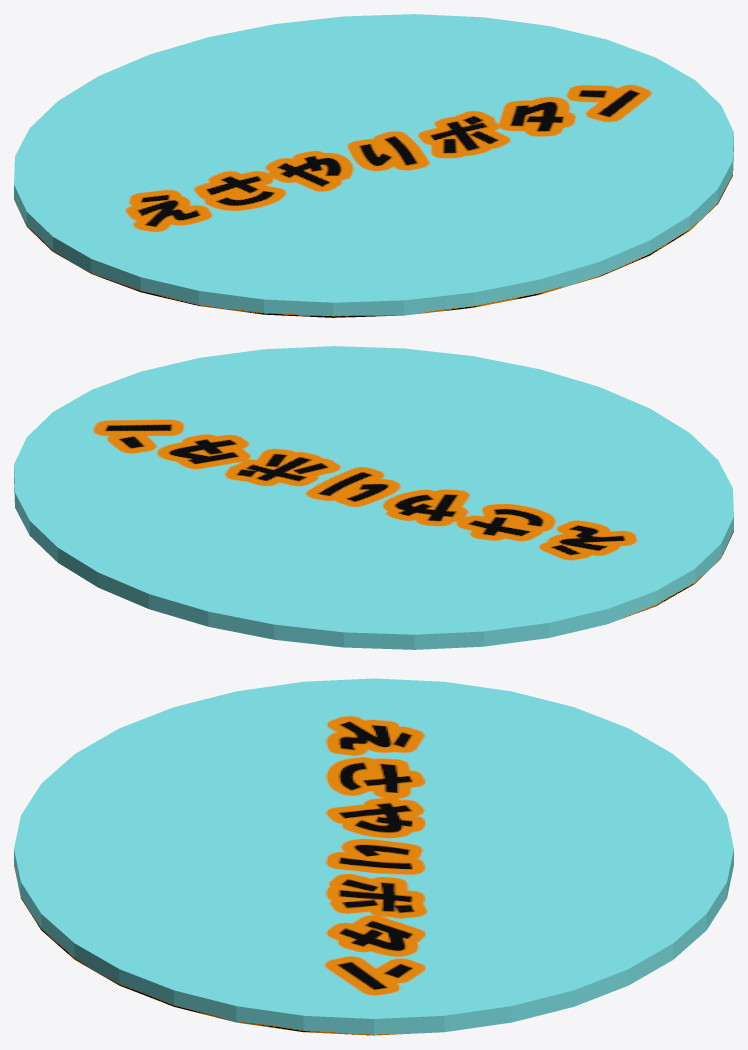
The model's file is ボタン.obj.
3 renders of one model, top to bottom at view 1: azimuth 30°, elevation 25°; view 2: azimuth 150°, elevation 25°; view 3: azimuth 270°, elevation 25°, orthographic. The views are drawn at different scales.
Parts seen in each view (by area): view 1: 円柱; view 2: 円柱; view 3: 円柱.
Part boxes in pixels (x1,y1,x2,y2): 円柱: (14,14,733,317); 円柱: (14,346,733,649); 円柱: (14,678,733,1035).
Size of the model in its own units: 0.9712 by 0.0219 by 0.8677.
Materials: 1 (1 with a texture image).
